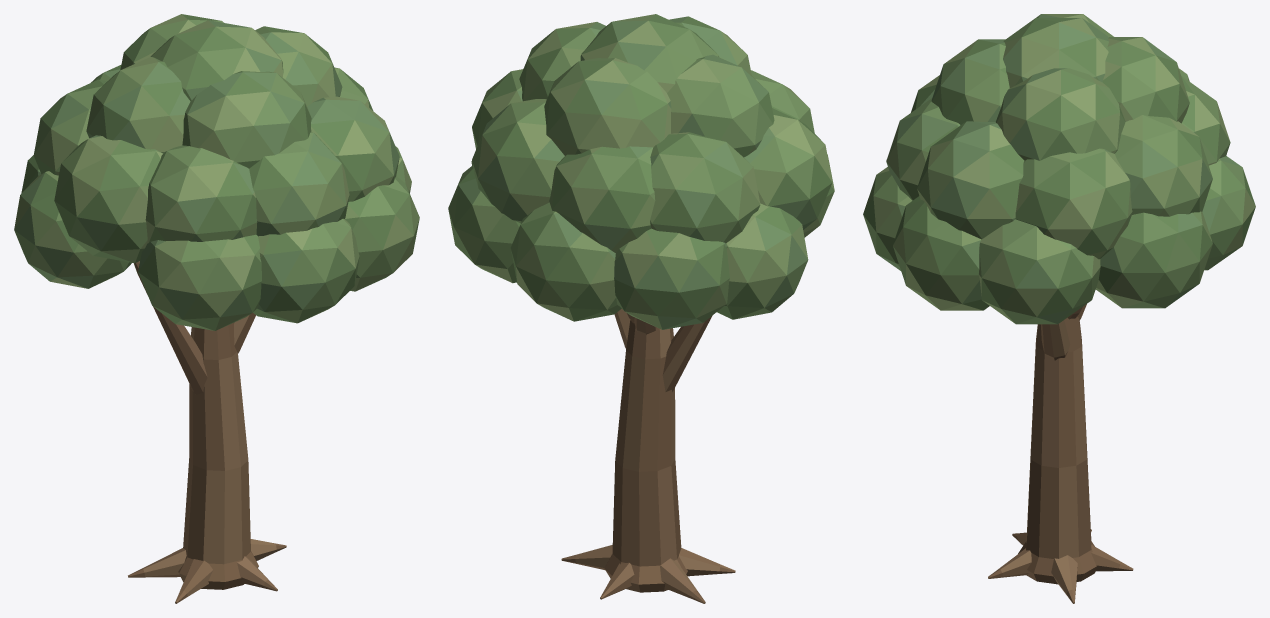
File: 0-20261016-1900-ev058-r11-exterior-tree.fbx
The picture shows the model from 3 angles, left to right: view 1: azimuth 30°, elevation 25°; view 2: azimuth 150°, elevation 25°; view 3: azimuth 270°, elevation 25°; orthographic projection.
Visible parts, largest first — view 1: SW_Exterior_Tree; view 2: SW_Exterior_Tree; view 3: SW_Exterior_Tree.
Boxes of the visible parts, x1=… form: SW_Exterior_Tree: x1=14, y1=14, x2=419, y2=603; SW_Exterior_Tree: x1=448, y1=14, x2=834, y2=603; SW_Exterior_Tree: x1=863, y1=14, x2=1255, y2=603.
Size of the model in its own units: 360 by 548 by 357.
